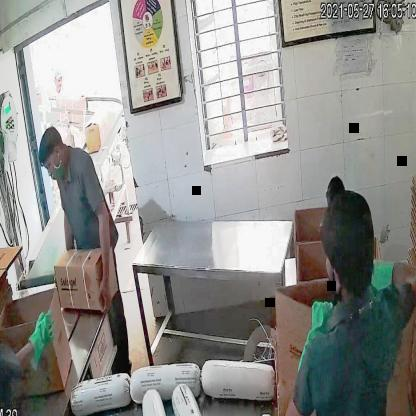no_goggles: (37, 152, 63, 179)
